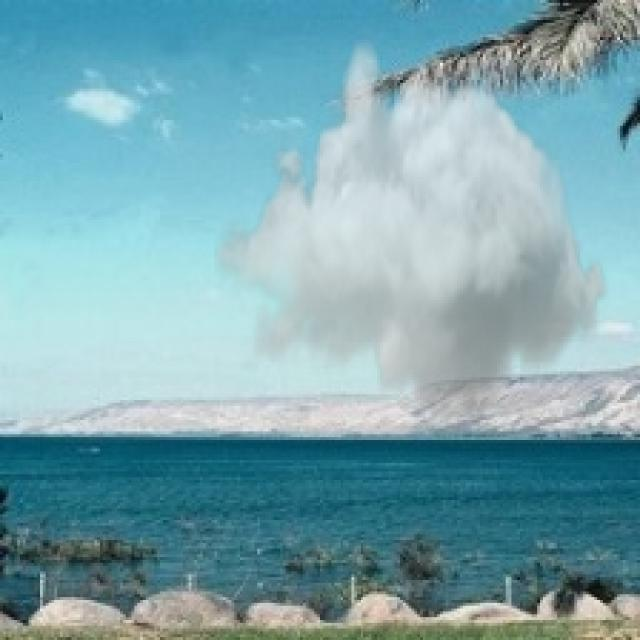Smoke: (214, 34, 612, 434)
